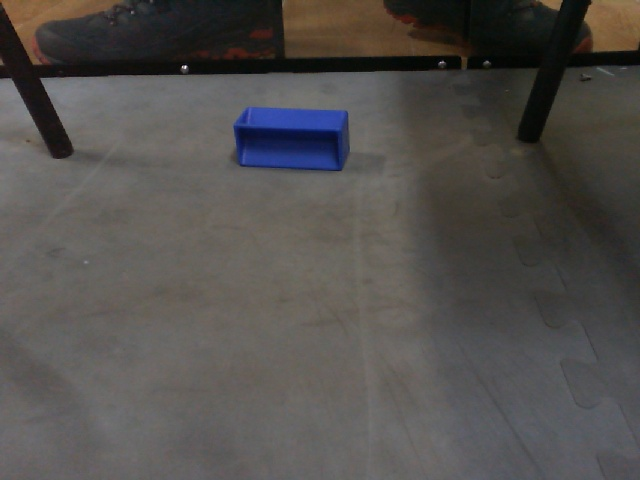BlueSample: (230, 103, 355, 174)
